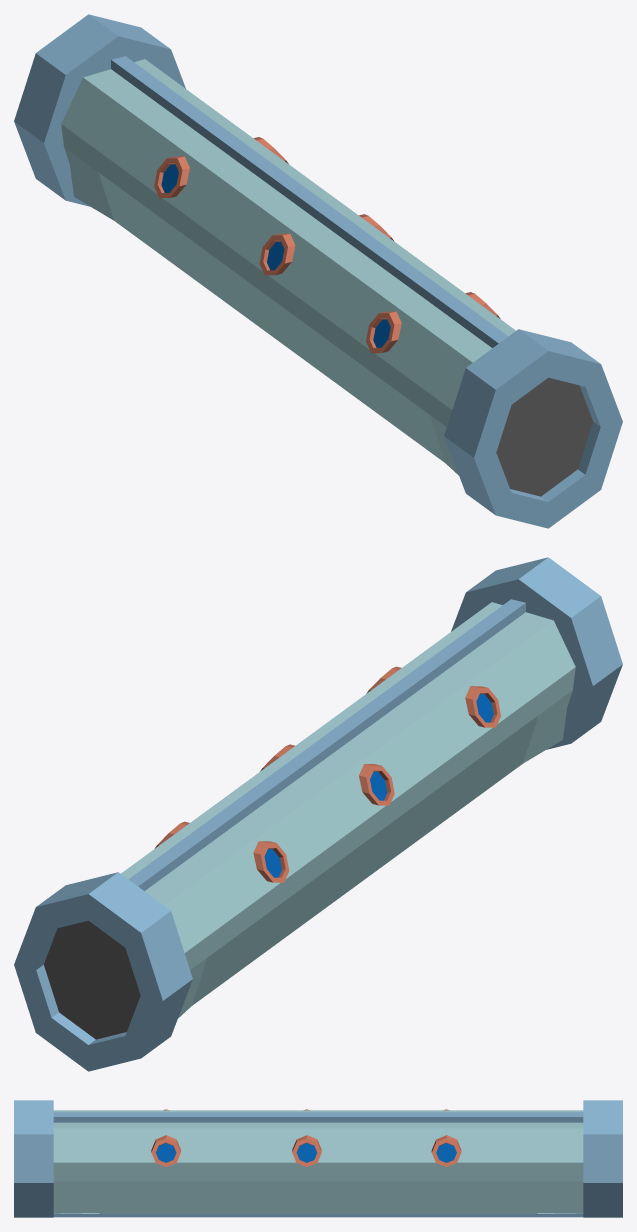
File: fragment de tunnel 01.fbx
The picture shows the model from 3 angles, top to bottom: view 1: azimuth 30°, elevation 25°; view 2: azimuth 150°, elevation 25°; view 3: azimuth 270°, elevation 25°; orthographic projection. The views are drawn at different scales.
Parts seen in each view (by area): view 1: Cube.001, Cylinder, Cylinder.001, Cube, Cylinder.004, Cylinder.002, Cylinder.003; view 2: Cube.001, Cylinder.001, Cylinder, Cube, Cylinder.003, Cylinder.002, Cylinder.004; view 3: Cube.001, Cube, Cylinder, Cylinder.001, Cylinder.003, Cylinder.002, Cylinder.004.
Part boxes in pixels (x1,y1,x2,y2): Cube.001: (61, 59, 515, 475); Cylinder: (444, 329, 622, 528); Cylinder.001: (14, 14, 185, 206); Cube: (111, 56, 508, 347); Cylinder.004: (366, 292, 500, 353); Cylinder.002: (259, 214, 394, 275); Cylinder.003: (154, 137, 288, 198); Cube.001: (121, 602, 575, 1018); Cylinder.001: (14, 872, 192, 1071); Cylinder: (451, 557, 622, 749); Cube: (128, 599, 525, 890); Cylinder.003: (154, 821, 289, 882); Cylinder.002: (260, 744, 394, 805); Cylinder.004: (366, 666, 500, 727); Cube.001: (53, 1110, 583, 1213); Cube: (53, 1112, 583, 1217); Cylinder: (14, 1100, 53, 1217); Cylinder.001: (583, 1100, 622, 1217); Cylinder.003: (431, 1109, 461, 1166); Cylinder.002: (292, 1109, 321, 1166); Cylinder.004: (151, 1109, 180, 1166).
Size of the model in its own units: 206 by 235 by 1101.
